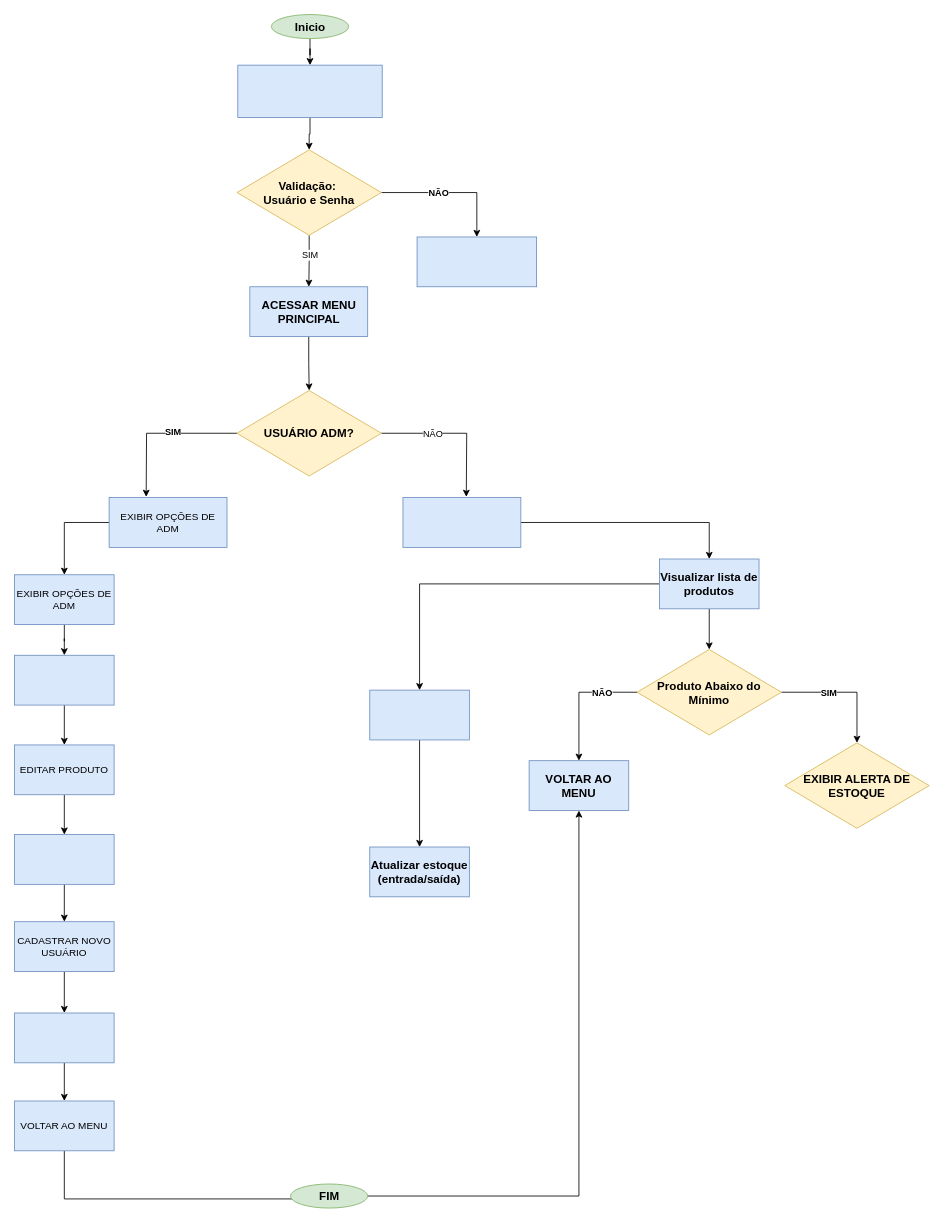
This 944x1226 diagram has some shape labels left out. The shapes that lost their labels are listed below. From the top down, each one's centre as x and y in pixels, then its label:
At [309,90]: "Exibir Tela de Login".
At [476,261]: "DADOS INVÁLIDOS".
At [461,522]: "EXIBIR OPÇÕES DE USUÁRIO".
At [64,679]: "CADASTRAR NOVO PRODUTO".
At [419,714]: "Visualizar alertas".
At [64,859]: "EXCLUIR PRODUTO".
At [64,1037]: "GERAR RELATÓRIOS".
